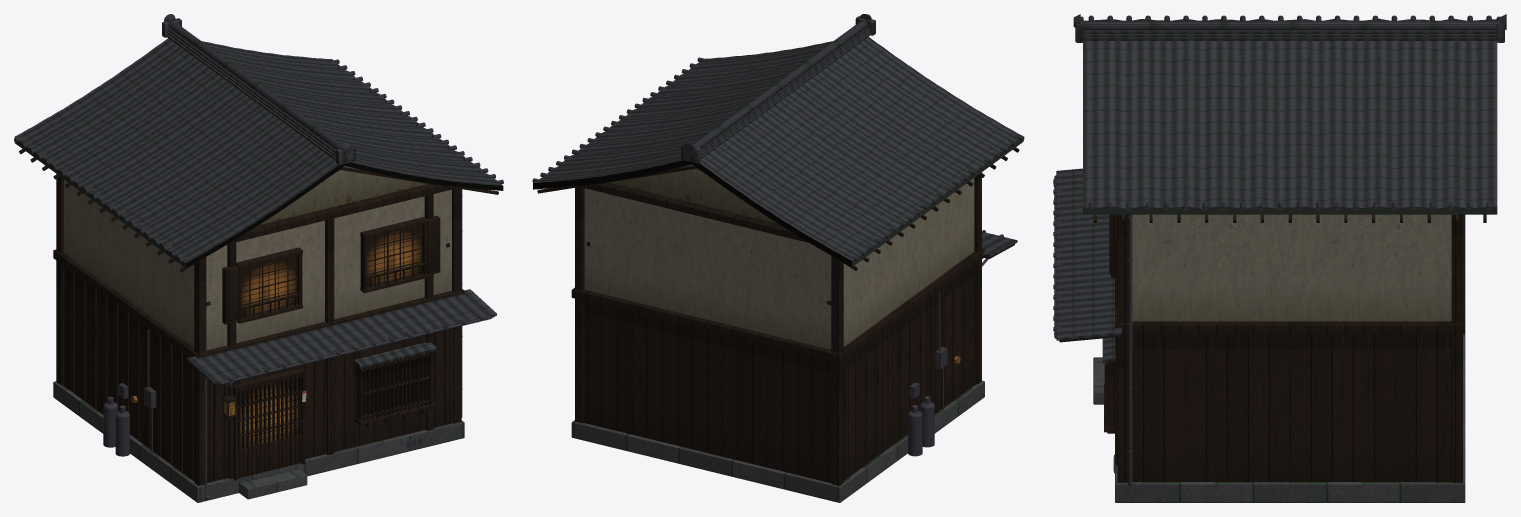
File: MachiyaHouse_A.fbx
3 views of the same model, side by side, from view 1: azimuth 30°, elevation 25°; view 2: azimuth 150°, elevation 25°; view 3: azimuth 270°, elevation 25° (orthographic). The views are drawn at different scales.
Visible parts, largest first — view 1: MachiyaHouse_A; view 2: MachiyaHouse_A; view 3: MachiyaHouse_A.
Boxes of the visible parts, bbox=[...] form: MachiyaHouse_A: bbox=[14, 14, 503, 502]; MachiyaHouse_A: bbox=[532, 14, 1024, 502]; MachiyaHouse_A: bbox=[1053, 14, 1506, 502].
Bounding box in the file's own units: 7.69 × 7.69 × 7.72.
